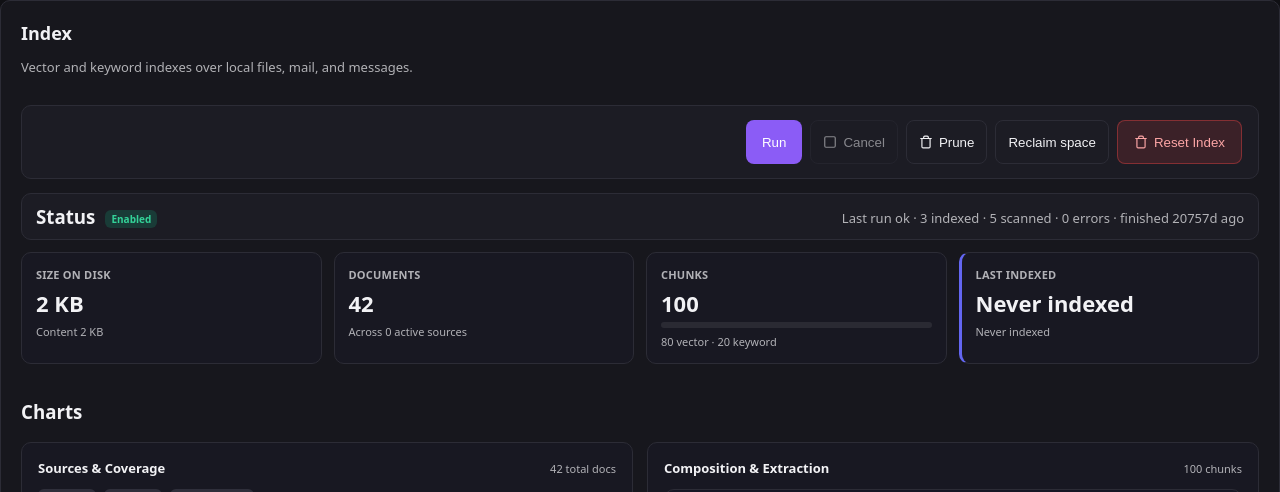
Test: IndexingPanel › runs an on-demand pass and reports the terminal summary
Expected: the text "Enabled" is shown, [105,210,157,228]
Click the button "Run". click: (774, 142)
box: [746,120,802,164]
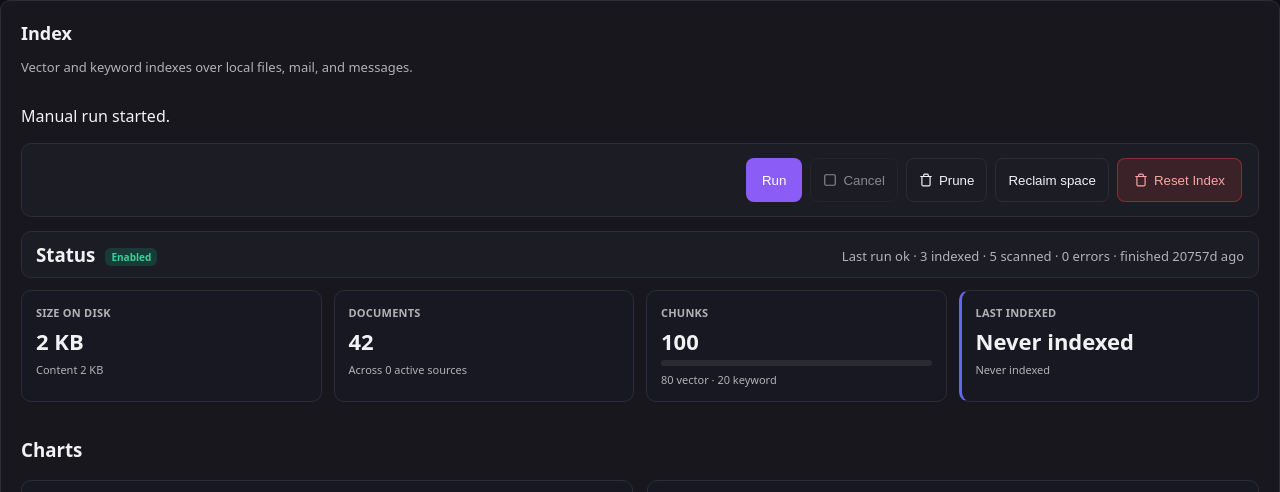
Expected: the element with test id "index-last-run" shows "Last run ok", [842,246,1244,264]
Expected: the text "Manual run started." is shown, [21,105,170,127]
